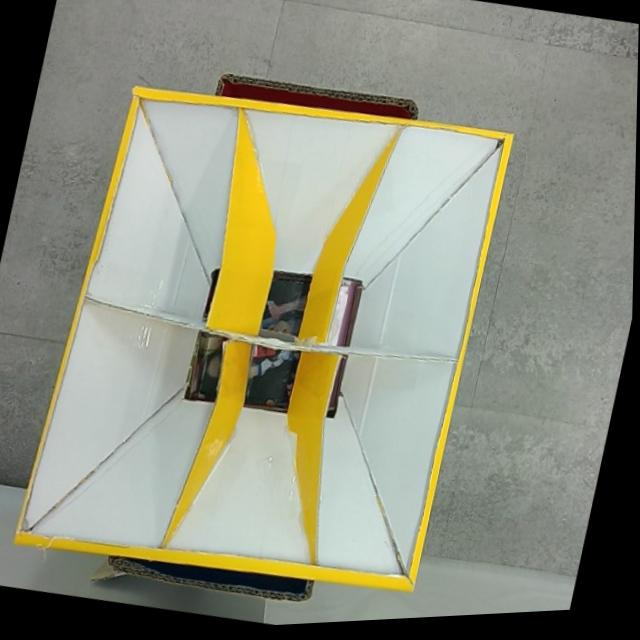box: (9, 40, 520, 635)
